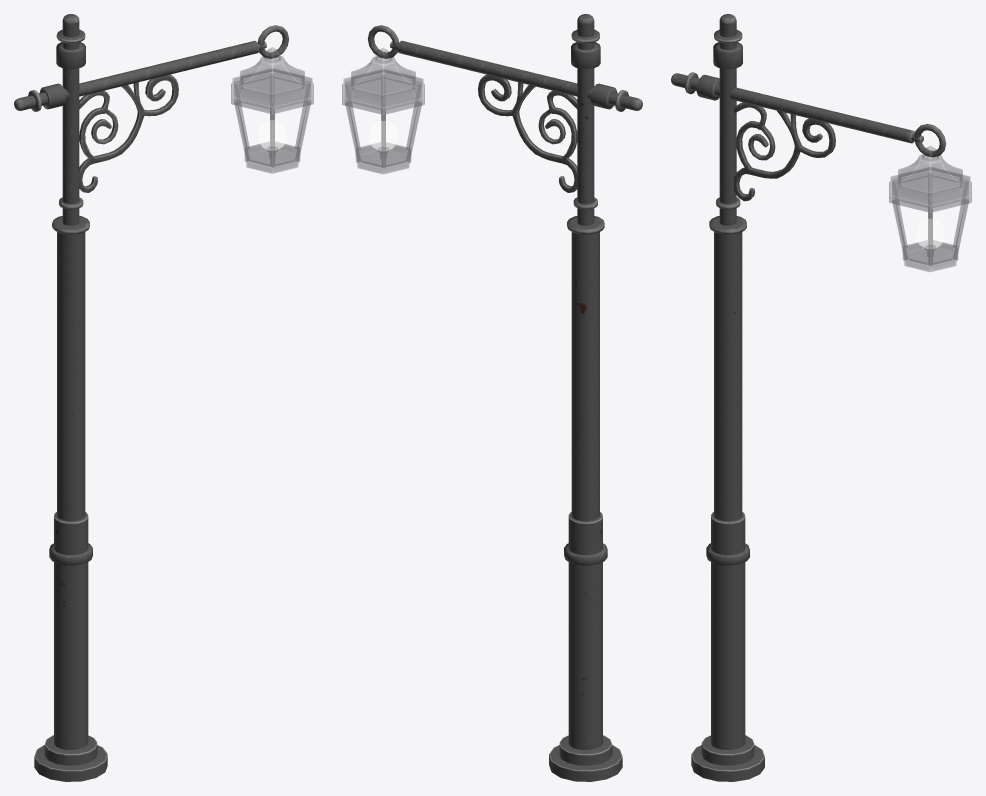
The model's file is lamp4.glb.
3 views of the same model, side by side, from view 1: azimuth 30°, elevation 25°; view 2: azimuth 150°, elevation 25°; view 3: azimuth 330°, elevation 25° (orthographic).
Parts seen in each view (by area): view 1: pole_single_02_pole_single_2_0, case_top_lamp02_0.002, glass_lamp02_0.002, case_bottom_lamp02_0.002, bulb_lamp02_0.002; view 2: pole_single_02_pole_single_2_0, case_top_lamp02_0.002, glass_lamp02_0.002, case_bottom_lamp02_0.002, bulb_lamp02_0.002; view 3: pole_single_02_pole_single_2_0, case_top_lamp02_0.002, glass_lamp02_0.002, case_bottom_lamp02_0.002, bulb_lamp02_0.002.
Part boxes in pixels (x1,y1,x2,y2): pole_single_02_pole_single_2_0: (14,14,288,781); case_top_lamp02_0.002: (231,47,313,113); glass_lamp02_0.002: (234,73,310,165); case_bottom_lamp02_0.002: (245,142,299,173); bulb_lamp02_0.002: (257,120,287,157); pole_single_02_pole_single_2_0: (368,14,642,781); case_top_lamp02_0.002: (342,47,424,114); glass_lamp02_0.002: (345,74,421,166); case_bottom_lamp02_0.002: (356,142,410,174); bulb_lamp02_0.002: (369,121,398,158); pole_single_02_pole_single_2_0: (671,14,946,781); case_top_lamp02_0.002: (889,145,971,212); glass_lamp02_0.002: (892,171,968,264); case_bottom_lamp02_0.002: (903,240,957,271); bulb_lamp02_0.002: (915,219,944,256).
Size of the model in its own units: 2.18 by 5.22 by 0.5216.
2 materials, 2 textured.
